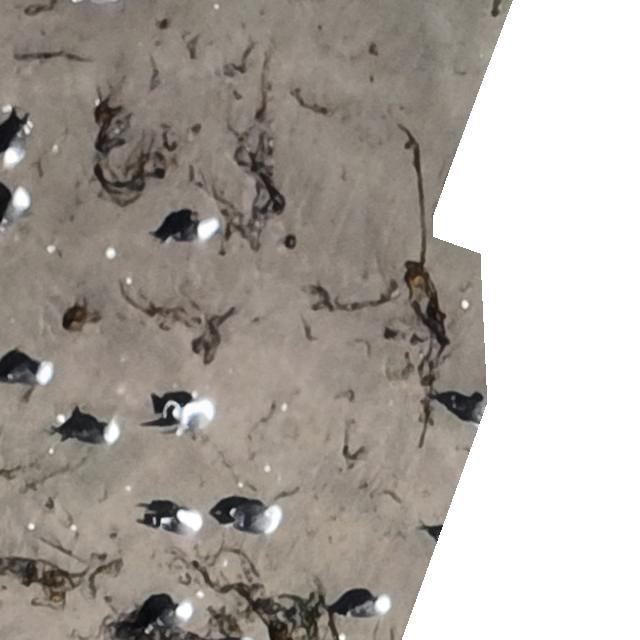umineko: (0, 345, 56, 381), (61, 412, 119, 442), (233, 507, 280, 532), (4, 190, 30, 224), (174, 221, 213, 242), (3, 133, 25, 166), (350, 600, 390, 618), (169, 514, 197, 533), (162, 605, 188, 625)
